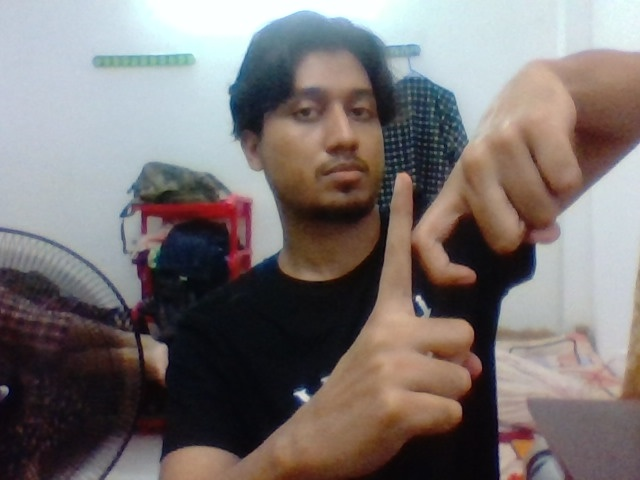K: (346, 160, 523, 410)
